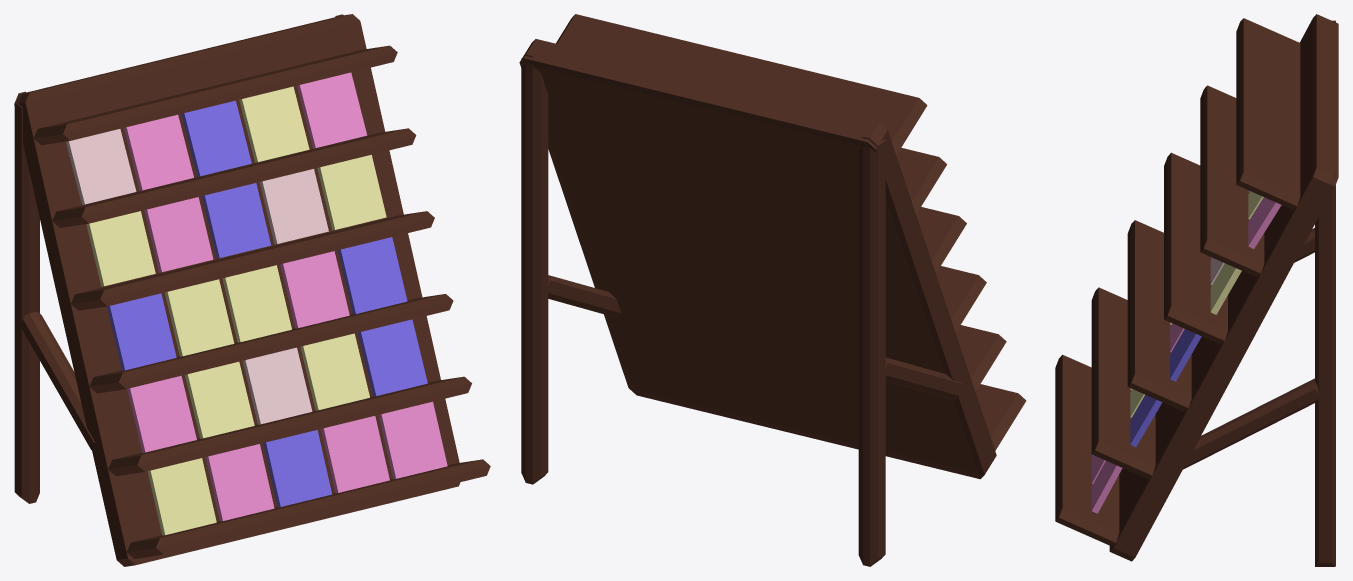
Rendered from Zeitungsständer.fbx.
The picture shows the model from 3 angles, left to right: view 1: azimuth 30°, elevation 25°; view 2: azimuth 150°, elevation 25°; view 3: azimuth 270°, elevation 25°; orthographic projection. The views are drawn at different scales.
Parts seen in each view (by area): view 1: Cube, Cube.005; view 2: Cube; view 3: Cube, Cube.005.
Part boxes in pixels (<box>): Cube: <box>14,14,490,566</box>; Cube.005: <box>66,72,447,535</box>; Cube: <box>519,14,1026,566</box>; Cube: <box>1055,14,1338,566</box>; Cube.005: <box>1091,190,1281,513</box>.
Size of the model in its own units: 15.6 by 18.21 by 11.71.
